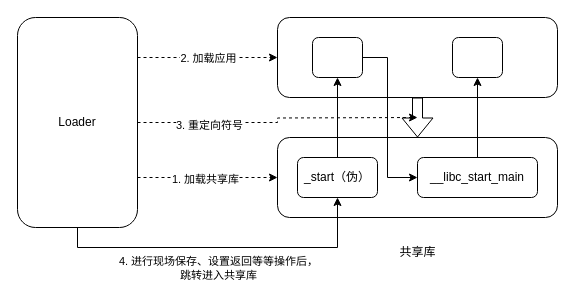
Image size: 575x298. Some labels were removed from this diagram. The centre of each missing label's shape, as x and y in pixels:
"_main" belongs at point (477, 57).
"_start" belongs at point (337, 57).
